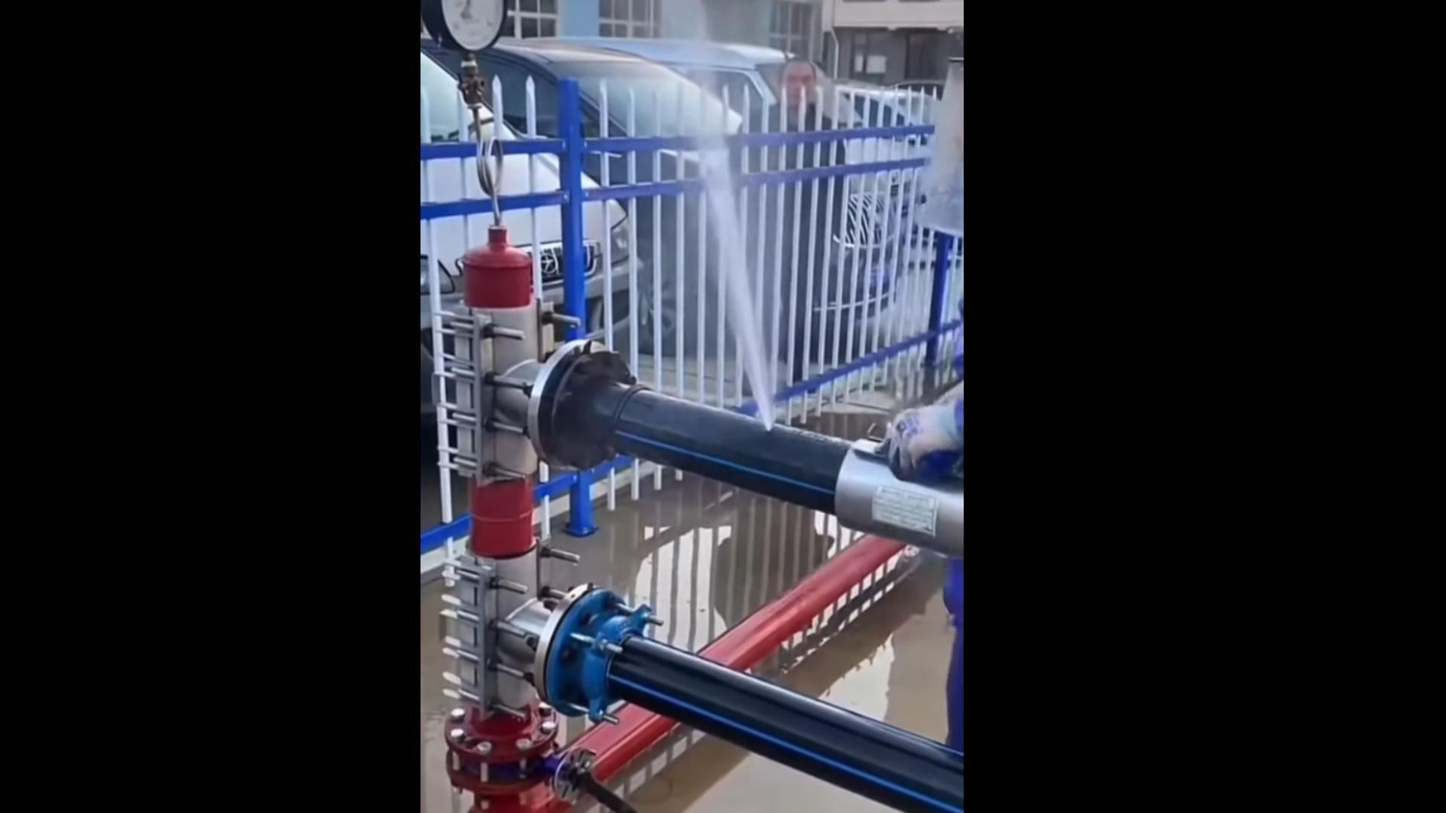pipe burst: (661, 6, 787, 439)
water accumulation: (423, 409, 965, 813)
